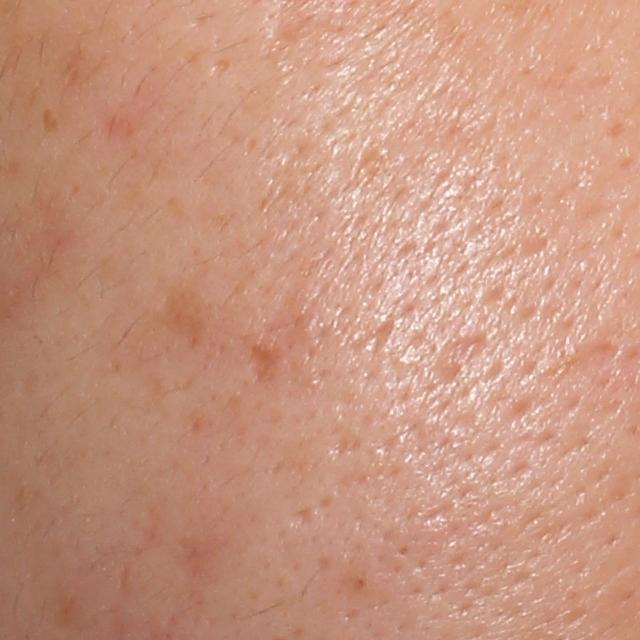atrophic_scar: (432, 331, 487, 387), (265, 13, 321, 55), (563, 341, 621, 377), (351, 316, 395, 358), (248, 340, 283, 381), (287, 506, 315, 532)
